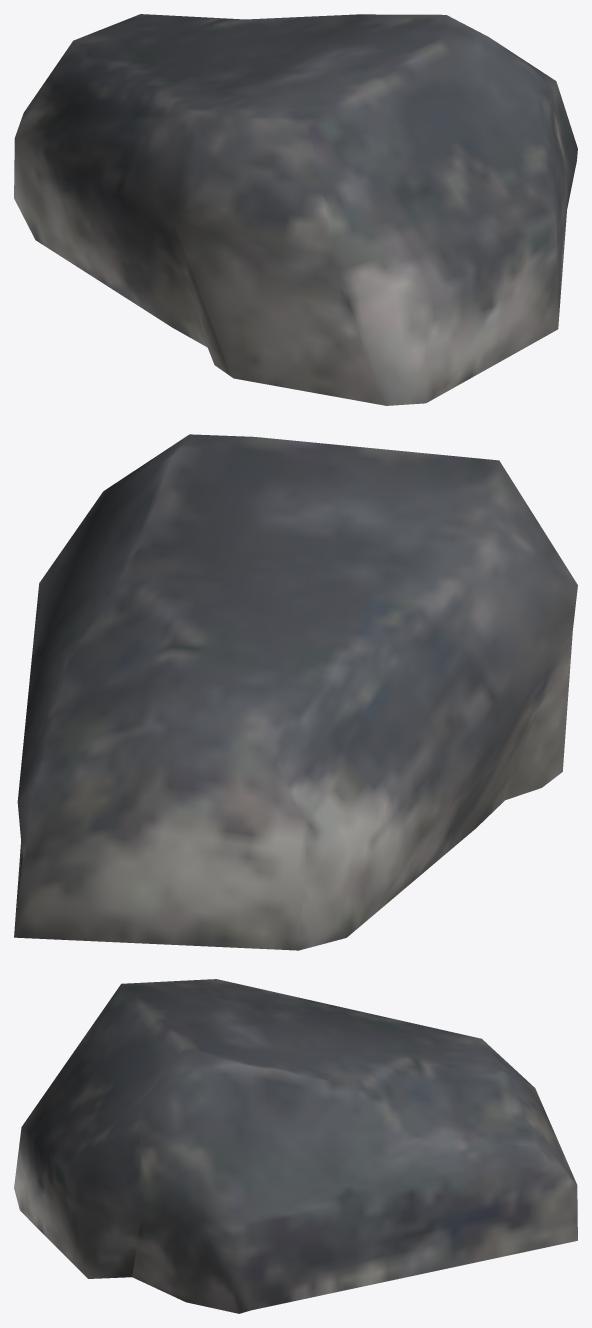
The model's file is SM_Com_Roc_38AS.fbx.
3 renders of one model, top to bottom at view 1: azimuth 30°, elevation 25°; view 2: azimuth 150°, elevation 25°; view 3: azimuth 270°, elevation 25°, orthographic. The views are drawn at different scales.
Visible parts, largest first — view 1: SM_Com_Roc_38AS.mo; view 2: SM_Com_Roc_38AS.mo; view 3: SM_Com_Roc_38AS.mo.
Boxes of the visible parts, left/top/right/bottom form: SM_Com_Roc_38AS.mo: left=14, top=14, right=577, bottom=405; SM_Com_Roc_38AS.mo: left=14, top=434, right=577, bottom=950; SM_Com_Roc_38AS.mo: left=14, top=979, right=577, bottom=1313.
Bounding box in the file's own units: 1.05 × 0.5977 × 1.45.
